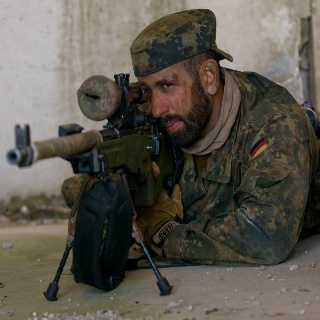rifle: (4, 71, 176, 300)
